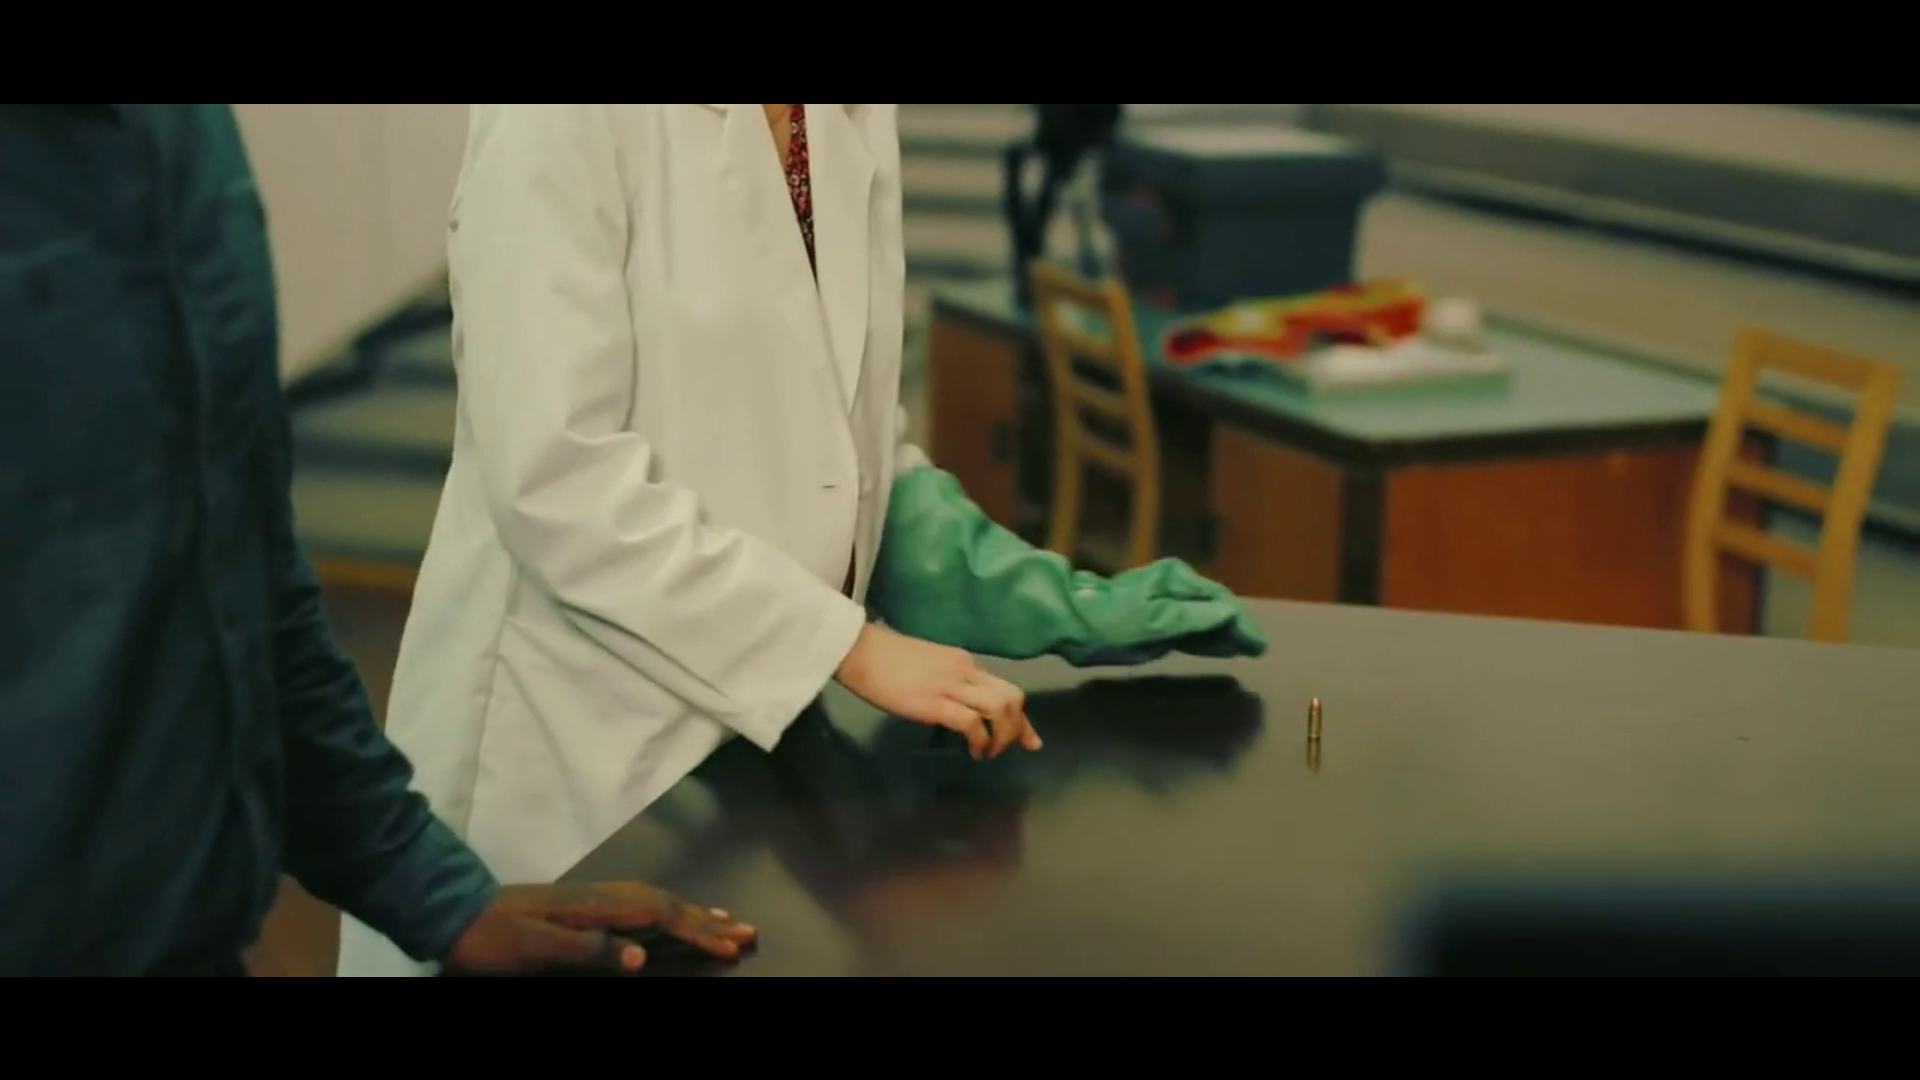Bullet: (1305, 696, 1331, 749)
